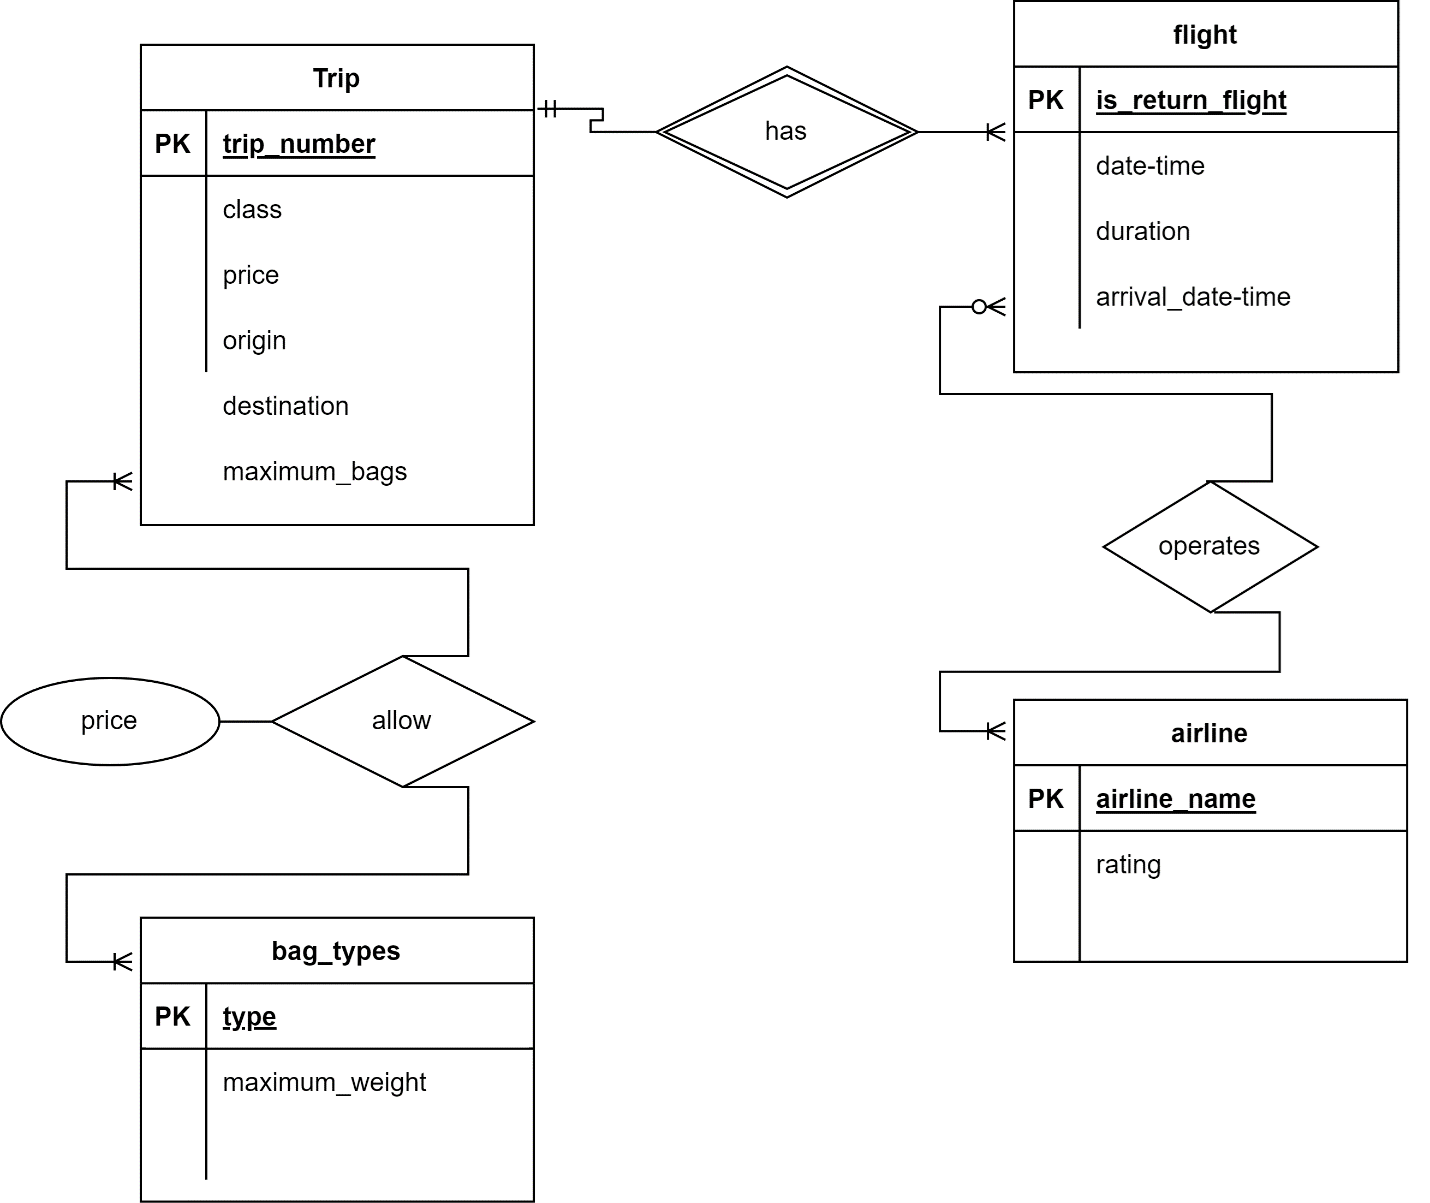entity: (141, 47, 534, 523), (1013, 2, 1403, 374), (141, 919, 536, 1203), (1013, 701, 1409, 967)
ident_rel: (662, 66, 917, 199)
many: (922, 121, 1011, 152), (69, 946, 136, 977), (942, 720, 1016, 747), (937, 296, 1016, 317), (70, 473, 141, 492)
one: (535, 98, 600, 123)
rel: (277, 656, 535, 785), (1102, 485, 1320, 610)
rel_attr: (1, 675, 221, 763)
